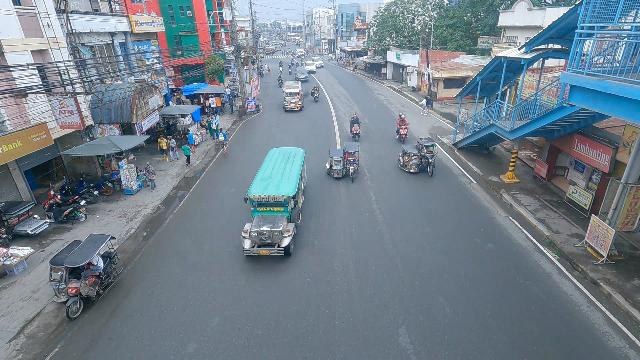car: (295, 67, 309, 82), (305, 61, 317, 74), (313, 57, 324, 68)
jeepney: (240, 145, 307, 261), (281, 80, 303, 113), (264, 46, 271, 54)
motorcycle: (395, 114, 411, 143), (348, 113, 362, 142), (312, 84, 320, 102), (278, 75, 284, 88), (259, 65, 264, 76), (300, 59, 305, 67), (279, 64, 283, 73), (279, 60, 284, 67), (301, 53, 305, 61), (291, 58, 295, 66), (288, 66, 292, 74), (295, 61, 299, 67)
van: (296, 49, 305, 57)
